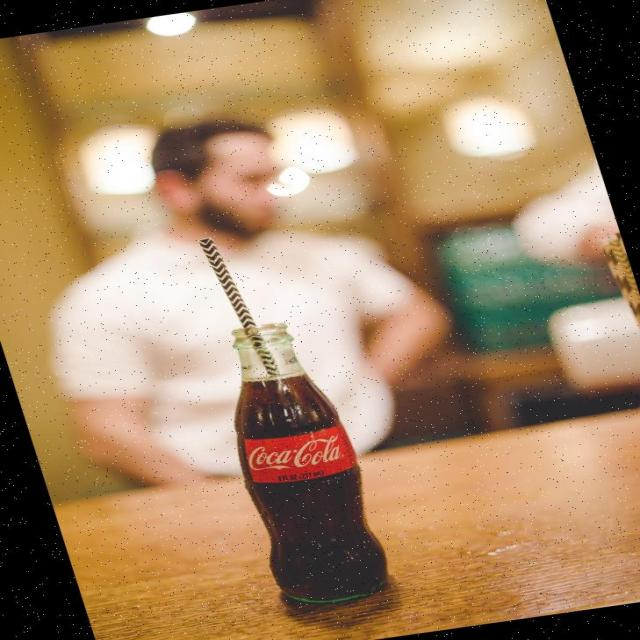coca-cola: (184, 307, 410, 621)
